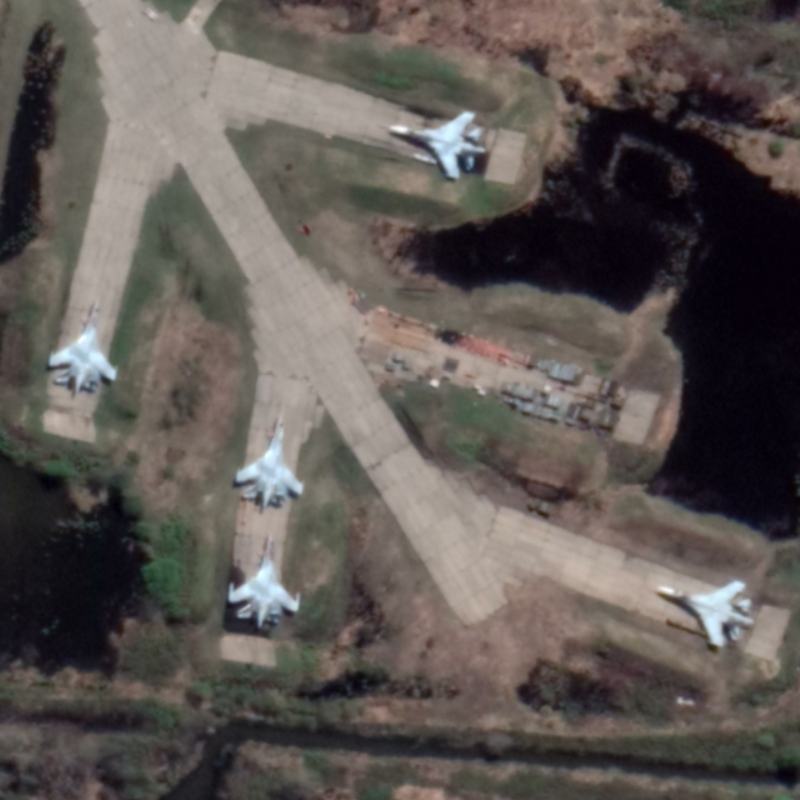A1: (230, 403, 306, 518), (385, 107, 491, 184), (652, 575, 757, 652), (224, 529, 303, 631), (44, 297, 119, 401)
